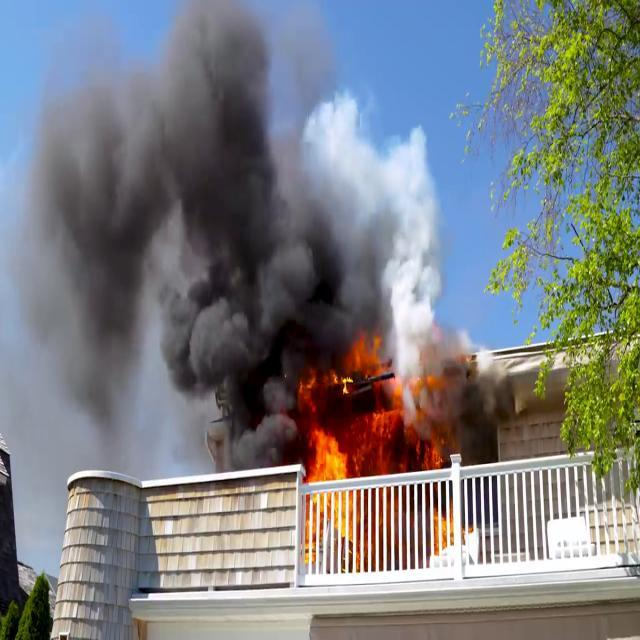Fire: (303, 334, 443, 506), (306, 488, 306, 532)
Smoke: (11, 39, 416, 422)
